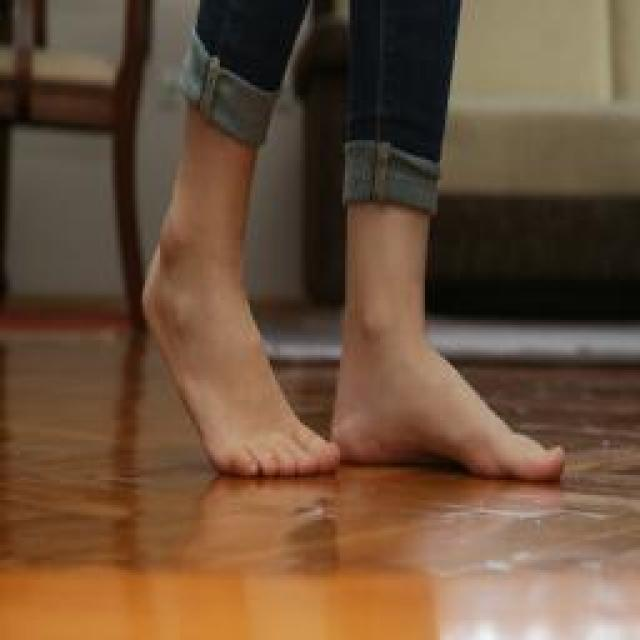Barefoots: (135, 227, 354, 503), (324, 277, 580, 490)
